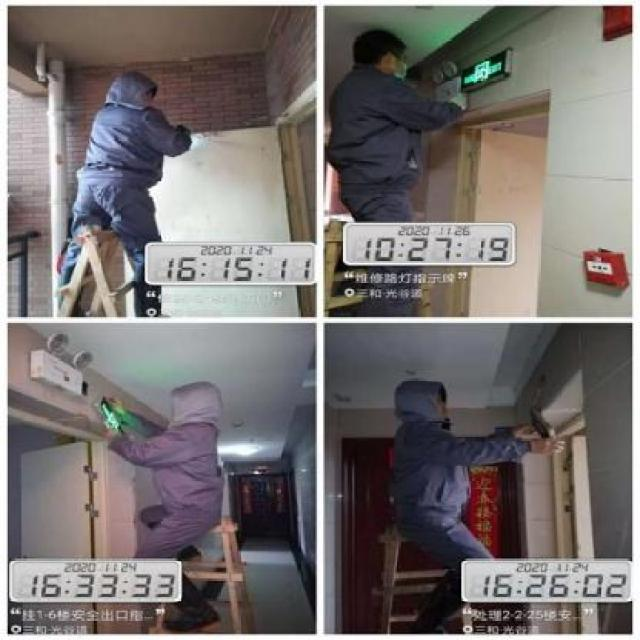exit_sign: (440, 49, 533, 94)
